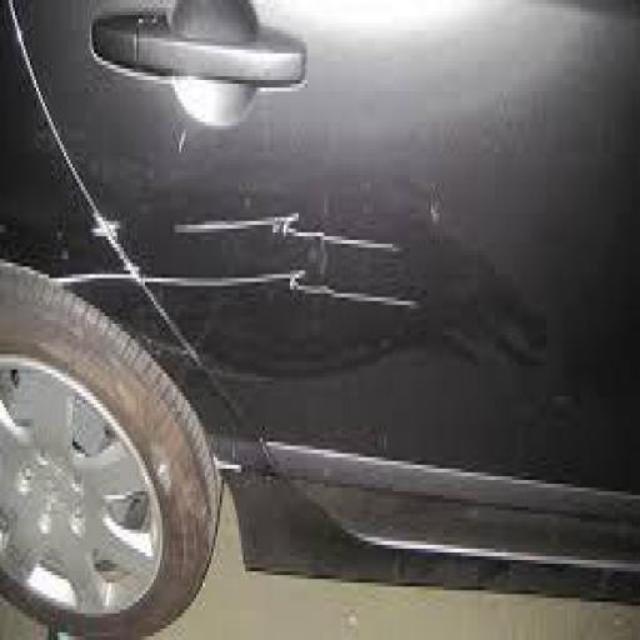rub: (53, 198, 425, 324)
